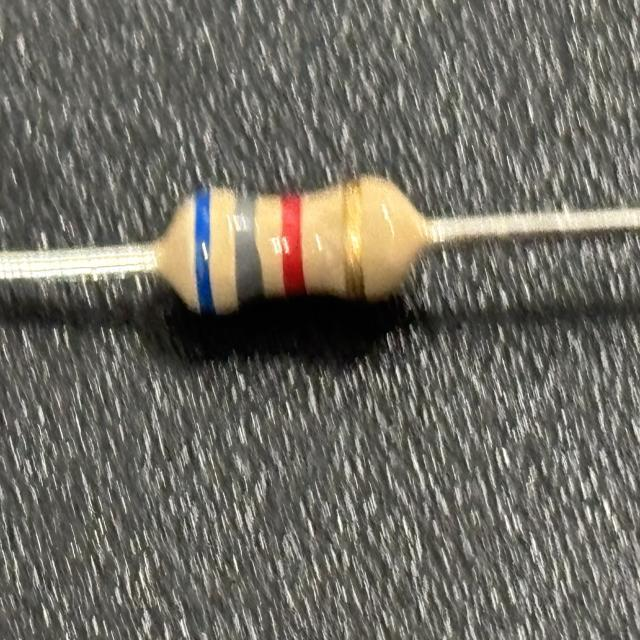resistor: (175, 168, 412, 323)
